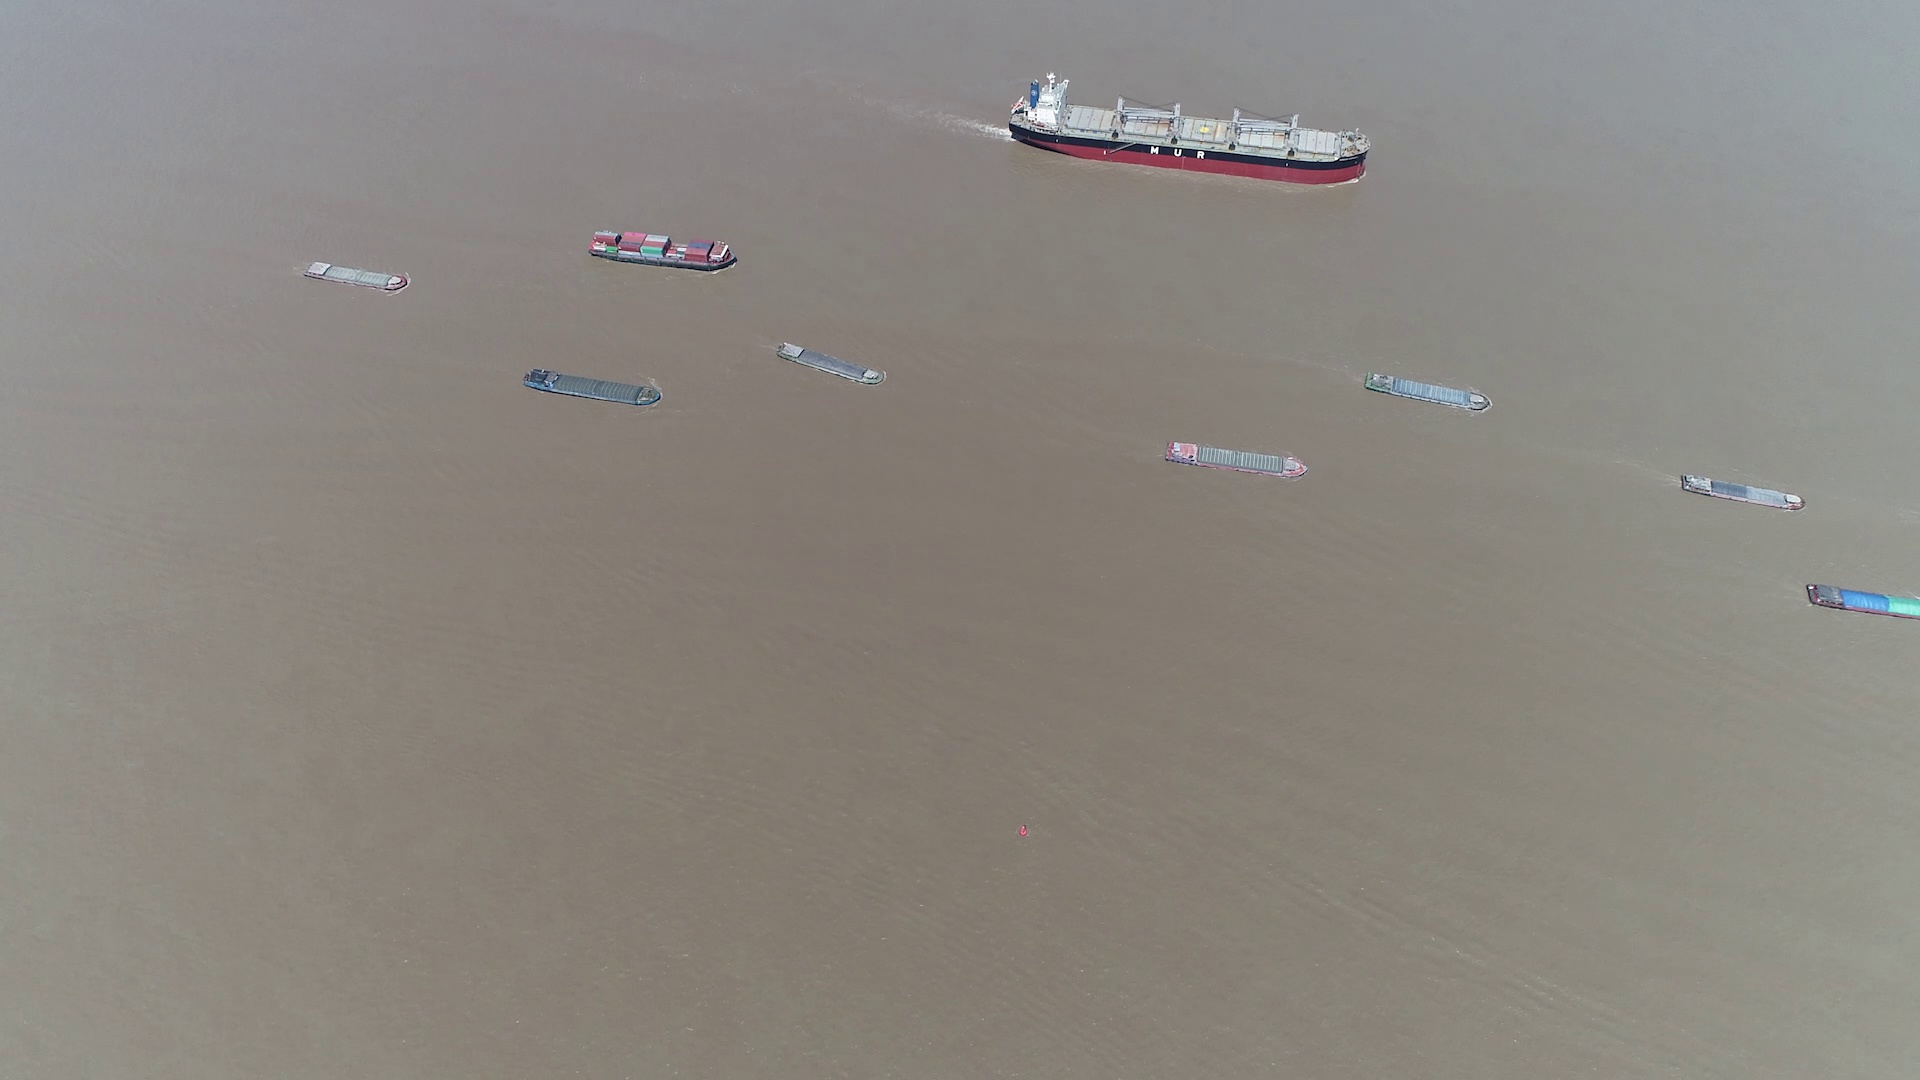ship: (1007, 74, 1367, 182), (589, 228, 738, 270), (1362, 372, 1493, 414), (1166, 440, 1308, 479), (775, 343, 886, 390), (522, 369, 659, 407), (1677, 473, 1807, 512), (1805, 582, 1919, 620), (303, 261, 409, 291)
